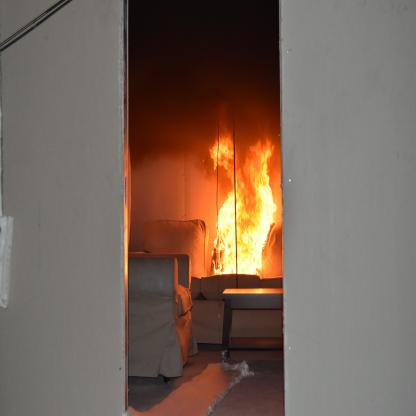fire: (208, 134, 279, 288)
smoke: (134, 2, 281, 251)
